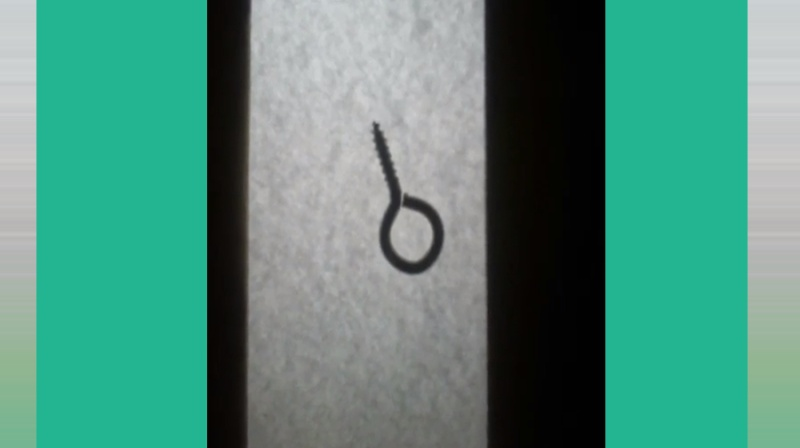O001: (368, 117, 447, 278)
